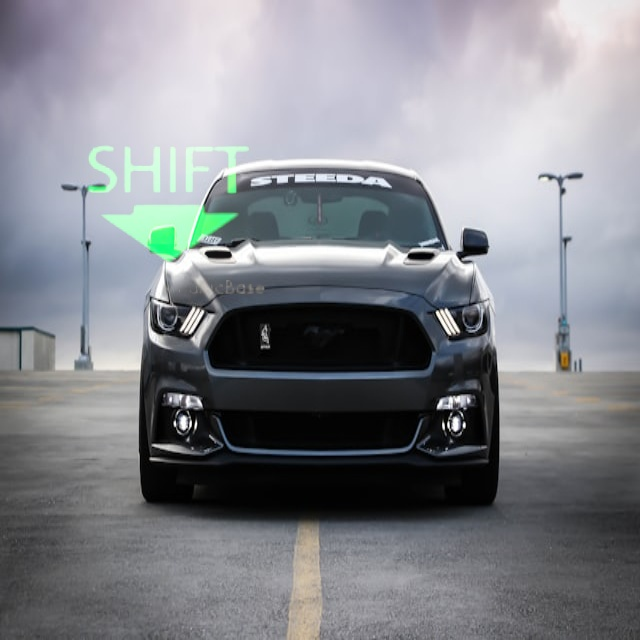symbol: (58, 90, 273, 305), (117, 36, 281, 200)
